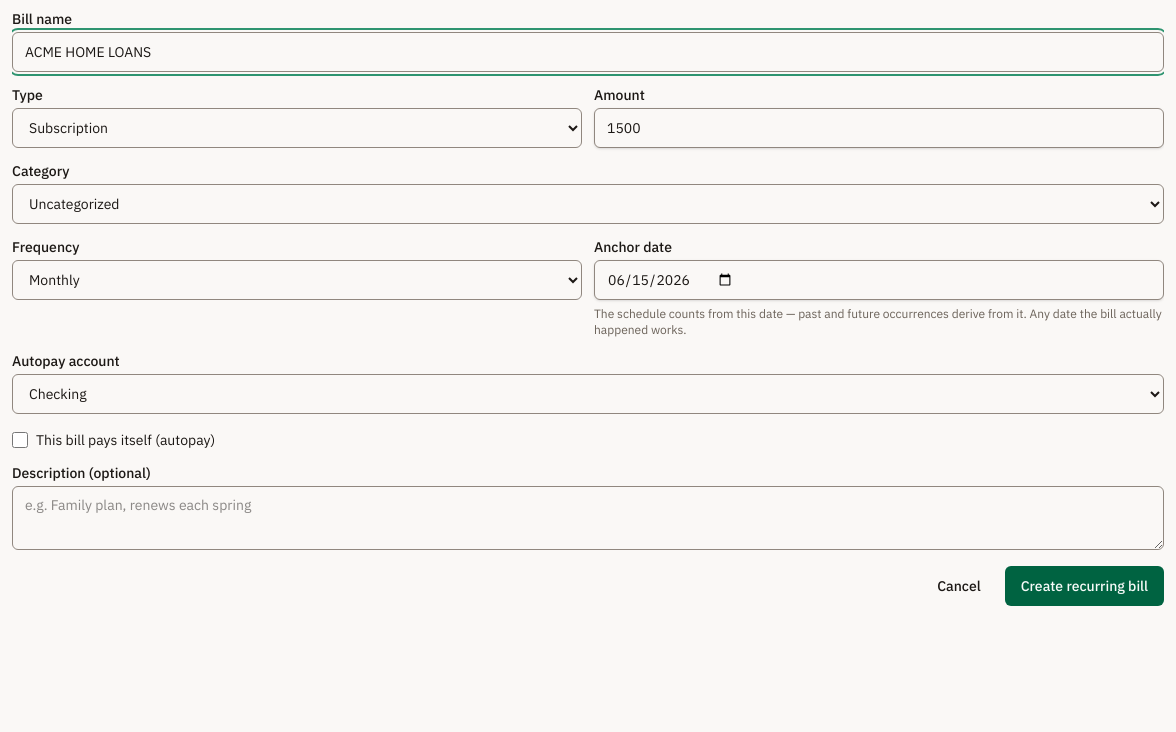
Test: the link is not offered when the loan already has a linked bill
Expected: the field labelled "Bill name" is shown, x1=12 y1=32 x2=1164 y2=72
Click the button "Create recurring bill": (1084, 586) x1=1005 y1=566 x2=1164 y2=606
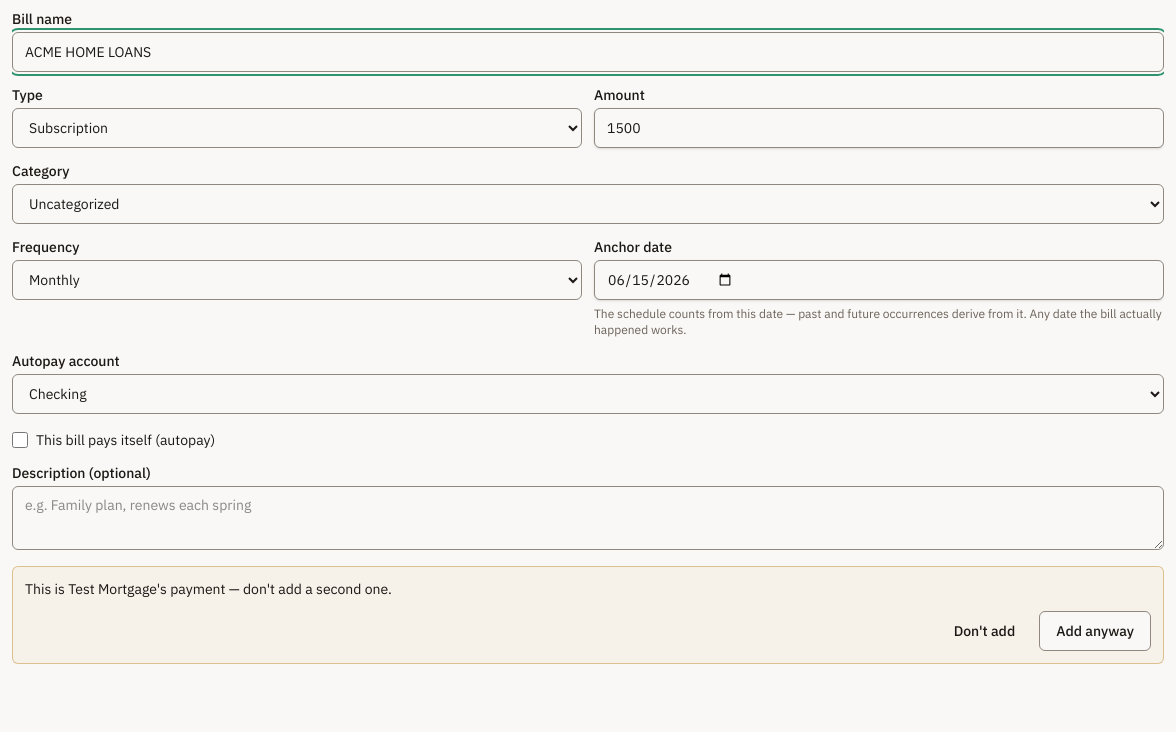
Now the button "Add anyway" is shown, box x1=1039 y1=611 x2=1151 y2=651
